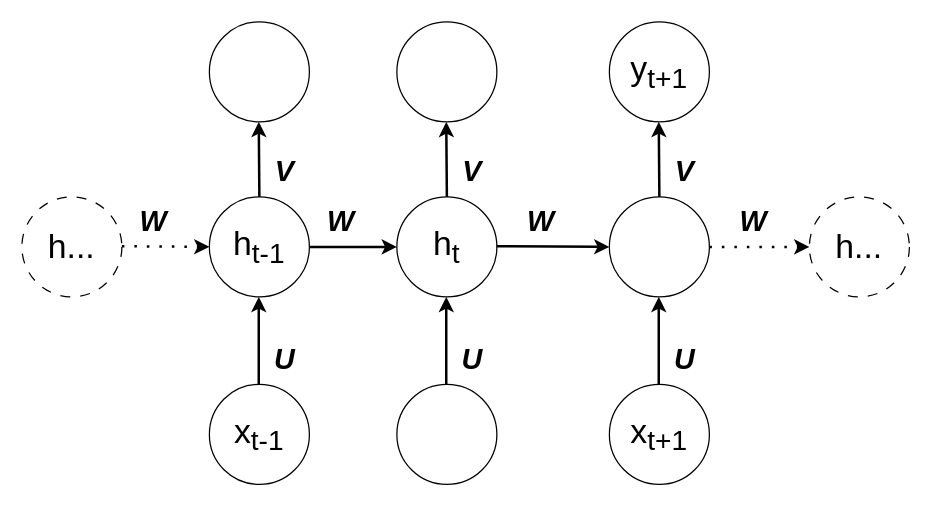
This 931x506 diagram has some shape labels left out. Each missing label, with the centre of its shape:
"h t+1" belongs at (x=658, y=246).
"x t" belongs at (x=446, y=433).
"y t" belongs at (x=446, y=71).
"y t-1" belongs at (x=258, y=71).
